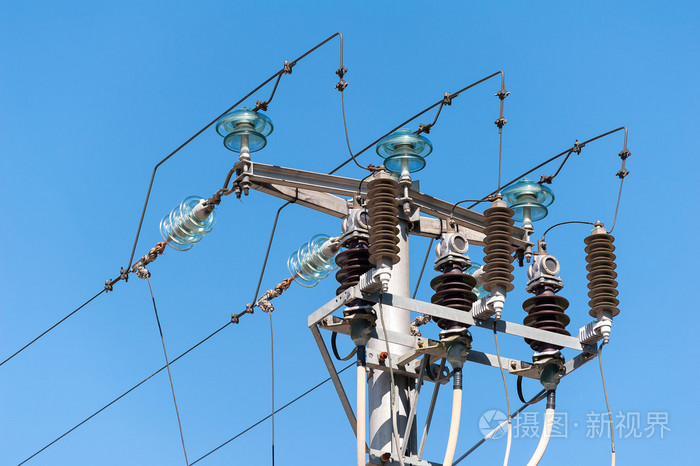insulator: (160, 195, 217, 253), (285, 234, 341, 288)
